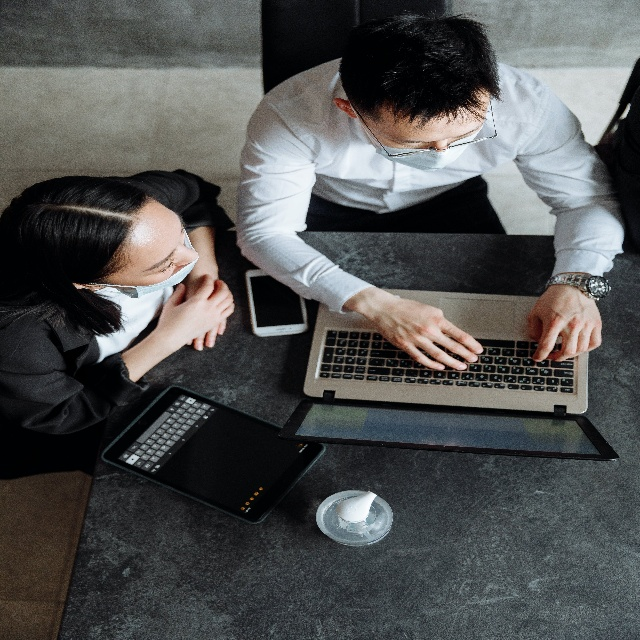Gafas: (349, 101, 498, 159)
Mascara: (349, 103, 488, 173), (86, 226, 201, 290)
Sin_guantes: (376, 287, 483, 373), (527, 282, 603, 365), (158, 276, 235, 352), (184, 274, 226, 353)
